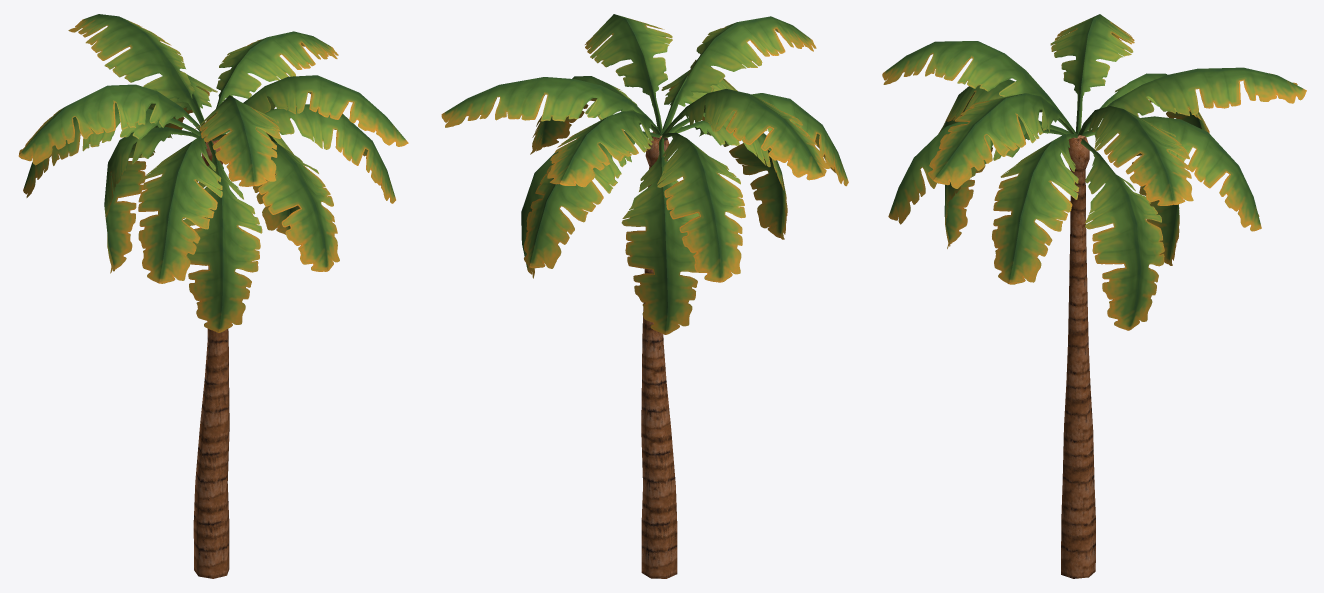
File: Palm Tree.fbx
The picture shows the model from 3 angles, left to right: view 1: azimuth 30°, elevation 25°; view 2: azimuth 150°, elevation 25°; view 3: azimuth 270°, elevation 25°; orthographic projection.
Parts seen in each view (by area): view 1: Palm Tree; view 2: Palm Tree; view 3: Palm Tree.
Part boxes in pixels (<box>): Palm Tree: <box>18,14,408,578</box>; Palm Tree: <box>441,14,848,578</box>; Palm Tree: <box>882,14,1306,578</box>.
Size of the model in its own units: 3.2 by 4.24 by 3.01.
1 material, 1 textured.
